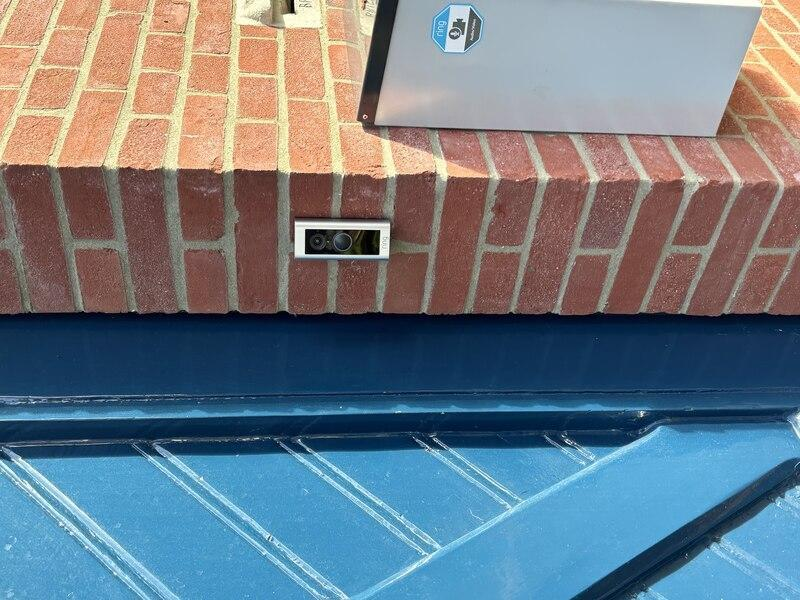doorbell: (335, 282, 385, 400)
